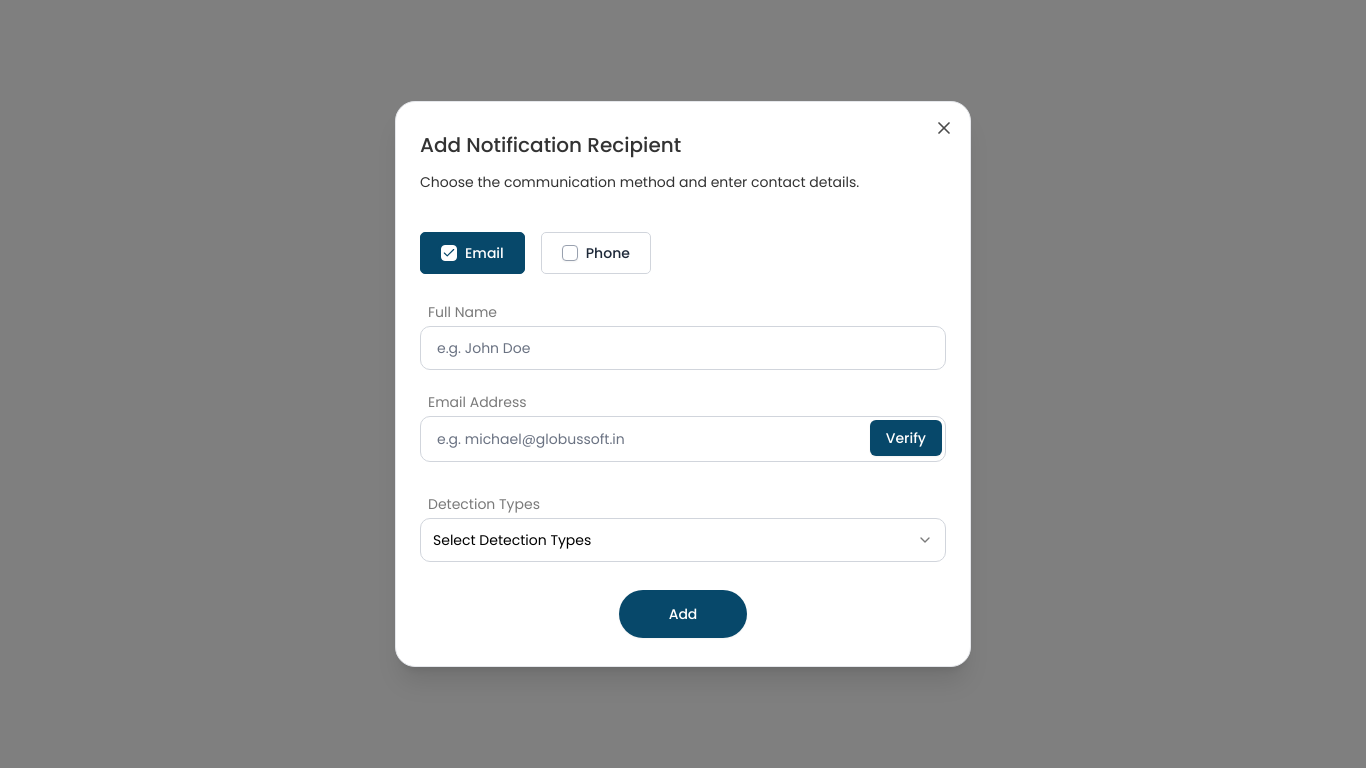
Test: AddRecipientModal › switching to the Phone tab swaps the form to the phone view
This screenshot has width=1366, height=768.
Click on the Phone option to switch
Click the checkbox named "Phone" next to "Phone": (570, 253) [562, 245, 578, 261]
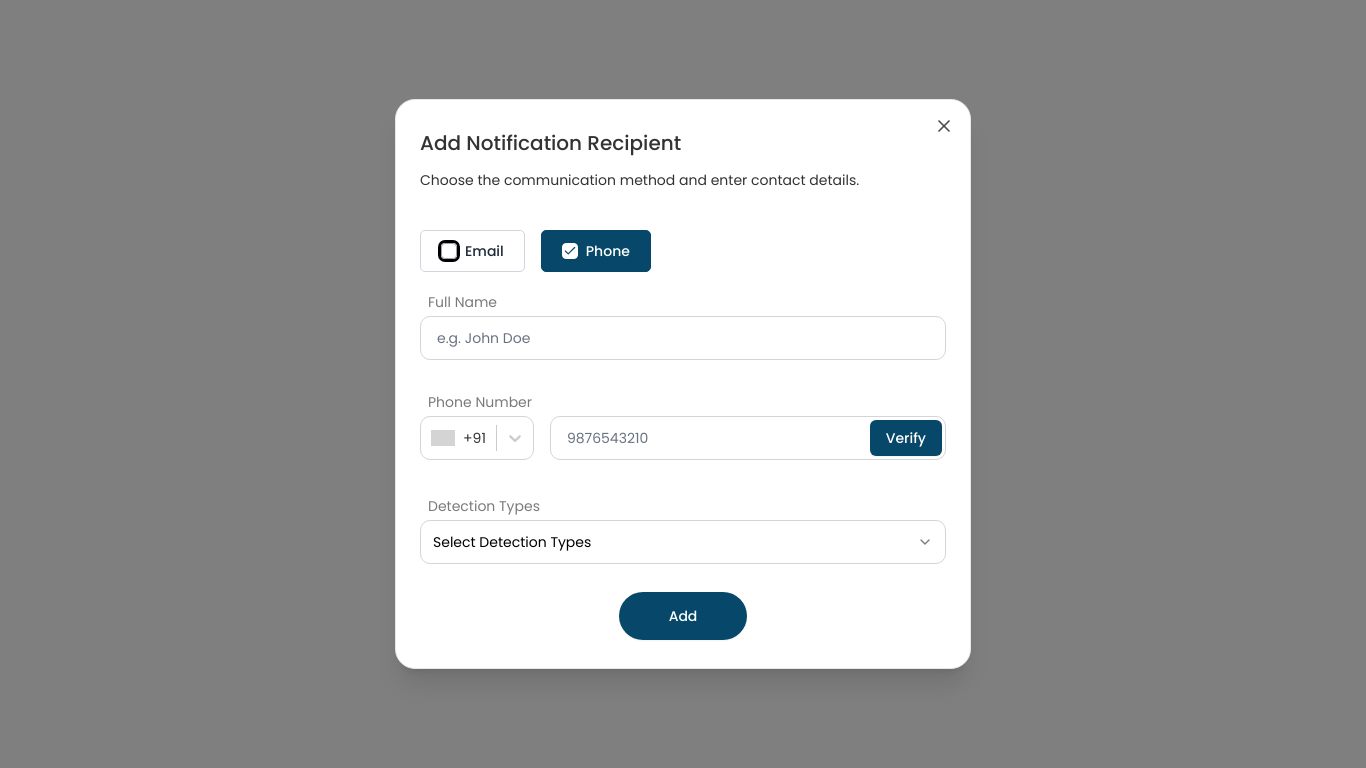
Expected: the text "Phone Number" is shown, [428, 392, 532, 412]
Expected: the text "Email Address" is gone
